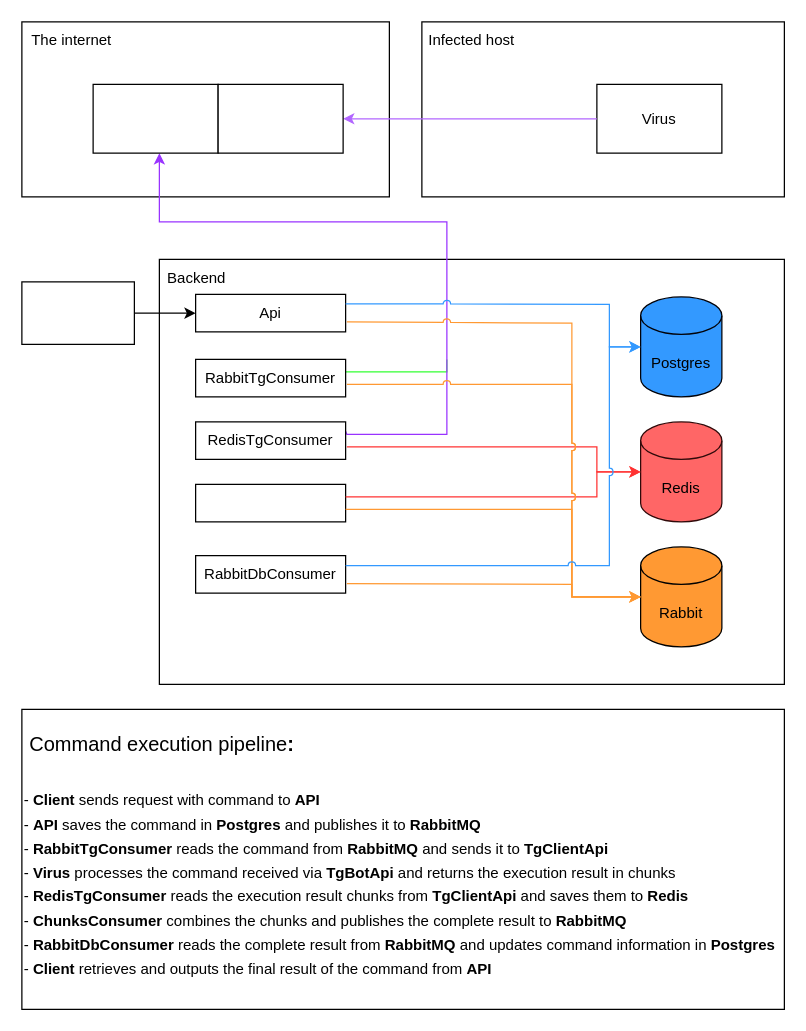
Some shapes in this 806 by 1031 pixel diagram are drawn without their labels. Each missing label, with the centre of its shape:
ChunksConsumer: the point at 270,502
Client: the point at 77,312
TgBotApi: the point at 280,118
TgClientApi: the point at 155,118
